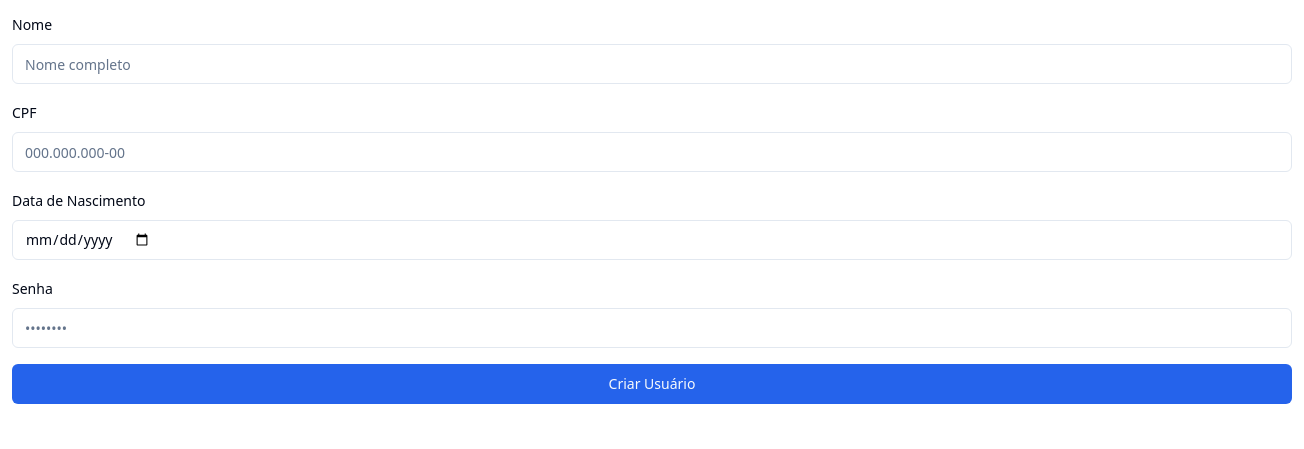
it: UsuarioForm › exibe erro quando senha não atende a política
Step 1. Type "João Silva" into the field with placeholder "Nome completo" → (652, 64), box [12,44,1292,84]
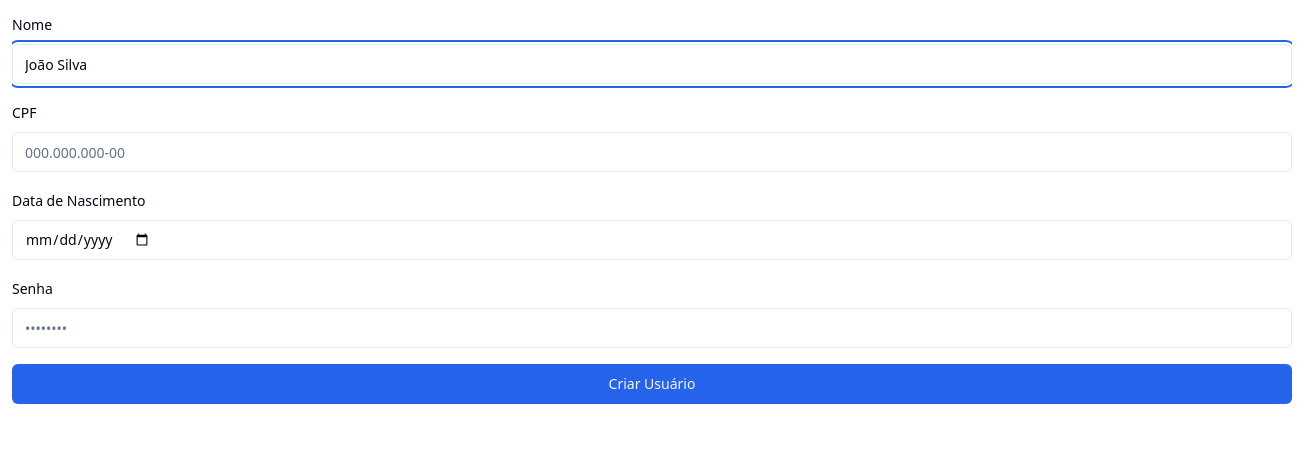
Step 2. Type "52998224725" into the field with placeholder "000.000.000-00" → (652, 152), box [12,132,1292,172]
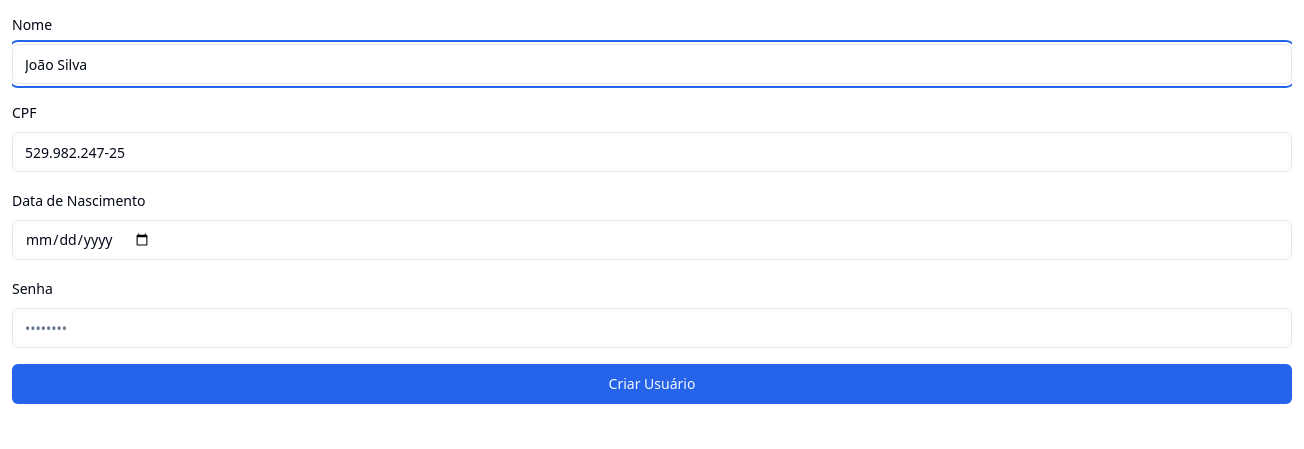
Step 3. Type "1995-03-15" into the date field labelled "Data de Nascimento" → (652, 240), box [12,220,1292,260]
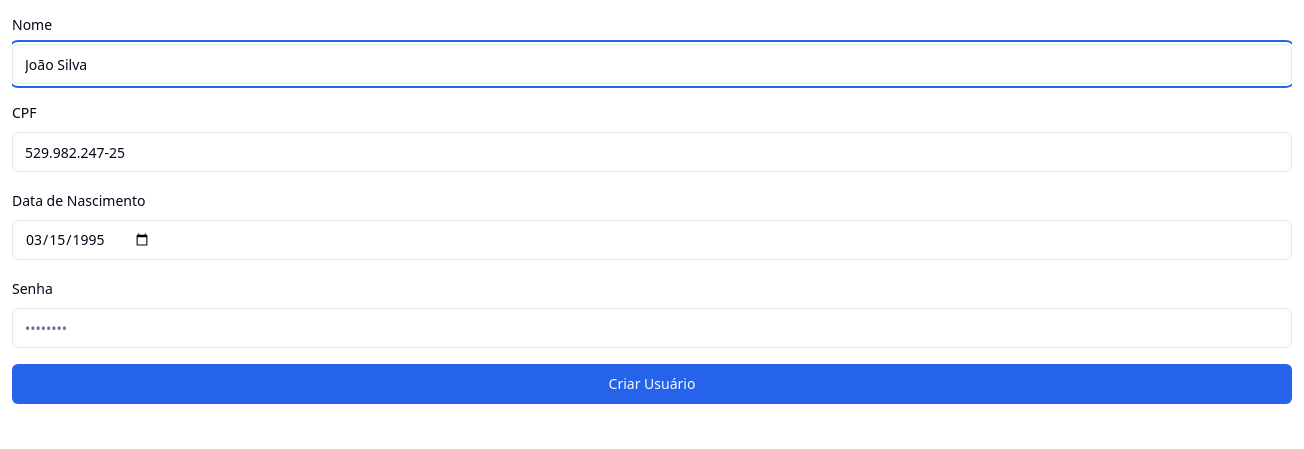
Step 4. Type "senhasemmaius" into the password field with placeholder "••••••••" → (652, 328), box [12,308,1292,348]
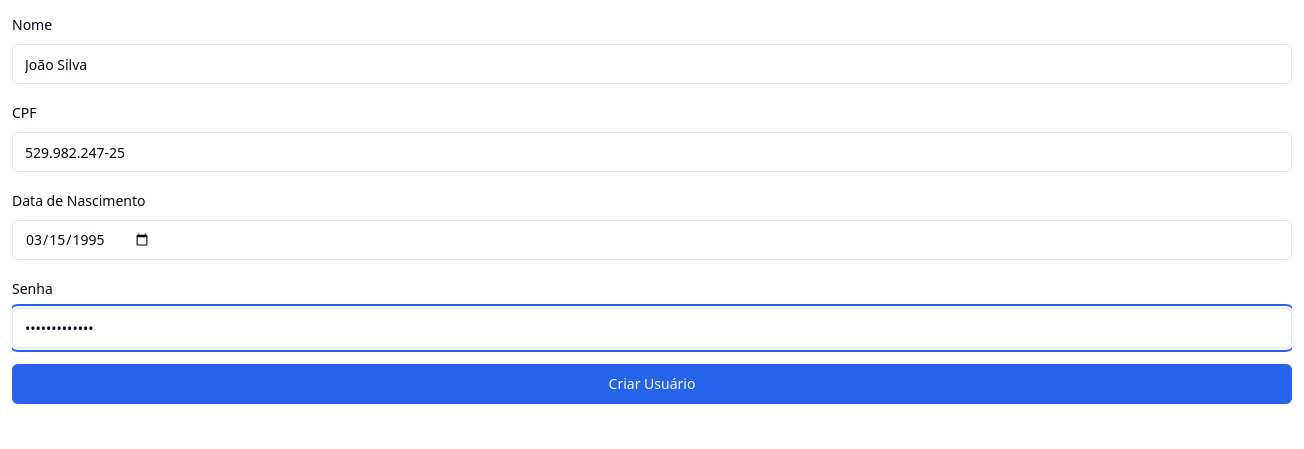
Step 5. Click the button "Criar Usuário" → (652, 384), box [12,364,1292,404]
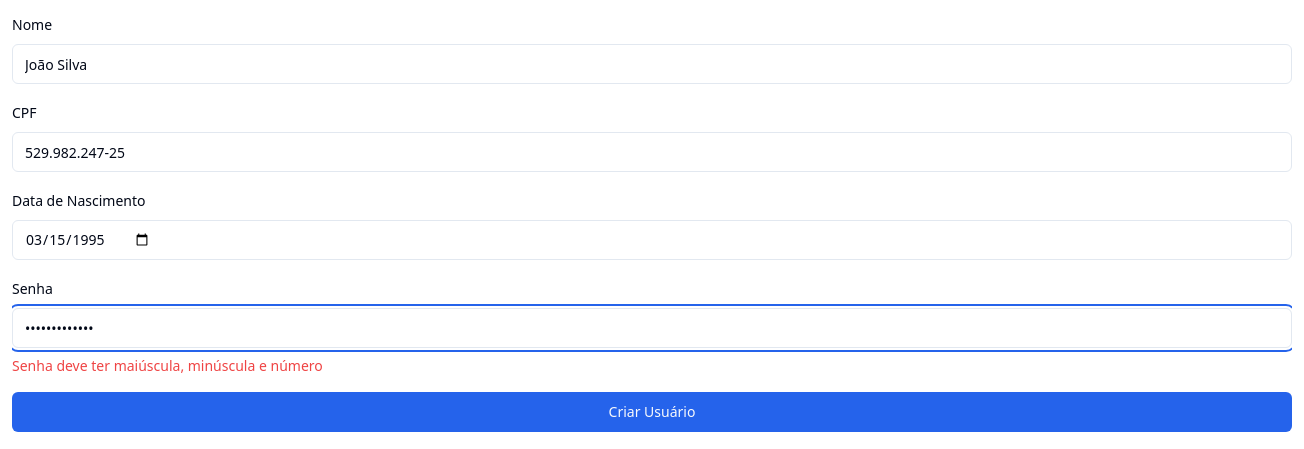
Expected: the text "Senha deve ter maiúscula, minúscula e número" is shown, [12,356,323,375]
